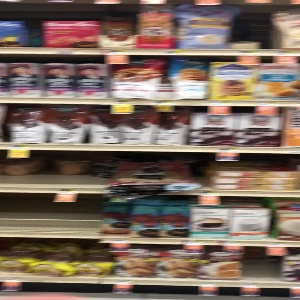void: (1, 152, 115, 187), (1, 194, 103, 228), (241, 246, 284, 284)
